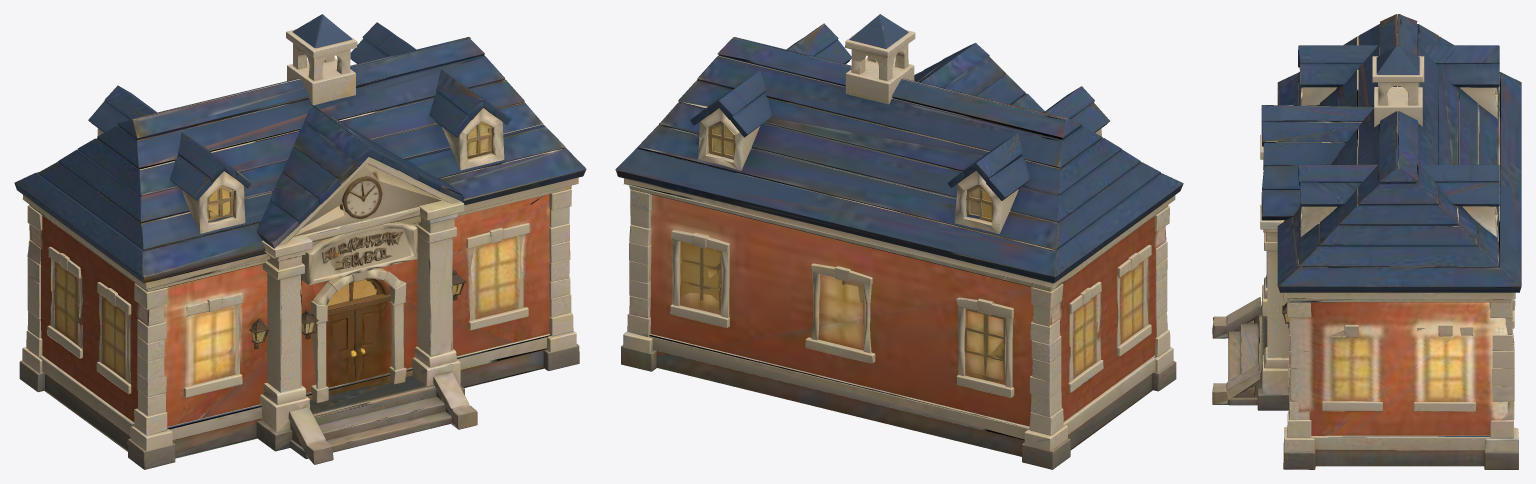
File: elementary_school.glb
3 renders of one model, left to right at view 1: azimuth 30°, elevation 25°; view 2: azimuth 150°, elevation 25°; view 3: azimuth 270°, elevation 25°, orthographic. The views are drawn at different scales.
Parts seen in each view (by area): view 1: geometry_0; view 2: geometry_0; view 3: geometry_0.
Boxes of the visible parts, box(x1,y1,x2,y2) form: geometry_0: box(14, 14, 586, 469); geometry_0: box(615, 14, 1183, 469); geometry_0: box(1212, 14, 1521, 469).
Bounding box in the file's own units: 0.9497 × 0.7236 × 0.6074.
1 material, 1 textured.
